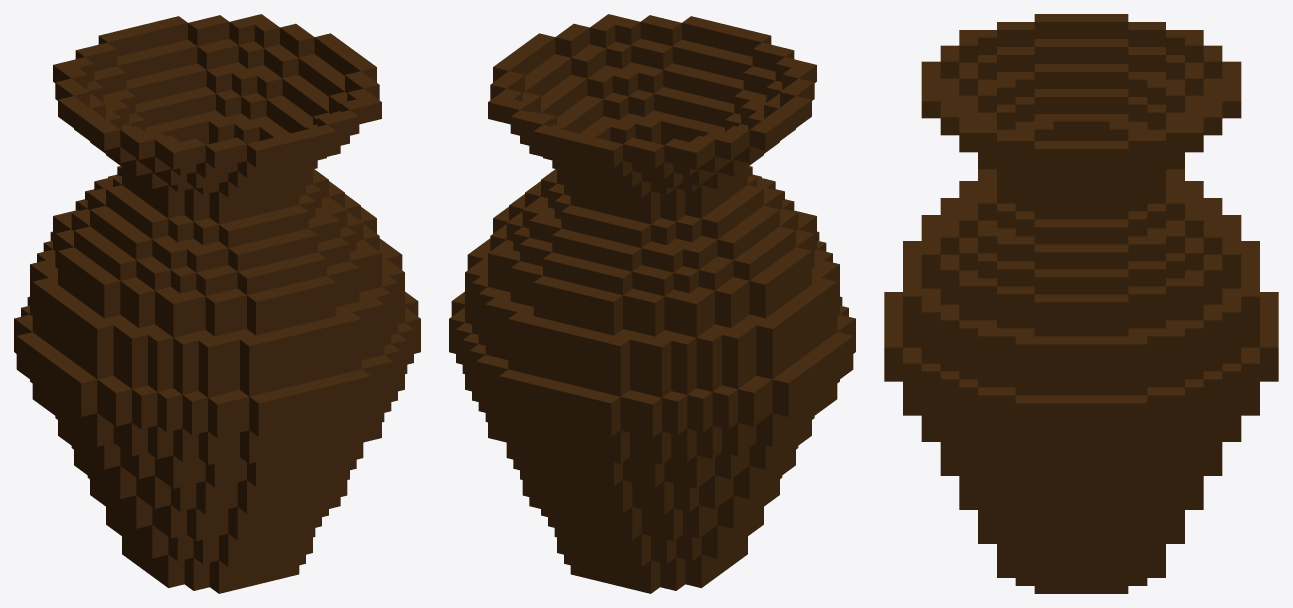
File: Vase.fbx
3 views of the same model, side by side, from view 1: azimuth 30°, elevation 25°; view 2: azimuth 150°, elevation 25°; view 3: azimuth 270°, elevation 25° (orthographic).
Visible parts, largest first — view 1: Vase; view 2: Vase; view 3: Vase.
Boxes of the visible parts, left/top/right/bottom form: Vase: left=14, top=14, right=420, bottom=593; Vase: left=449, top=14, right=855, bottom=593; Vase: left=884, top=14, right=1278, bottom=593.
Size of the model in its own units: 56 by 74.67 by 56.
